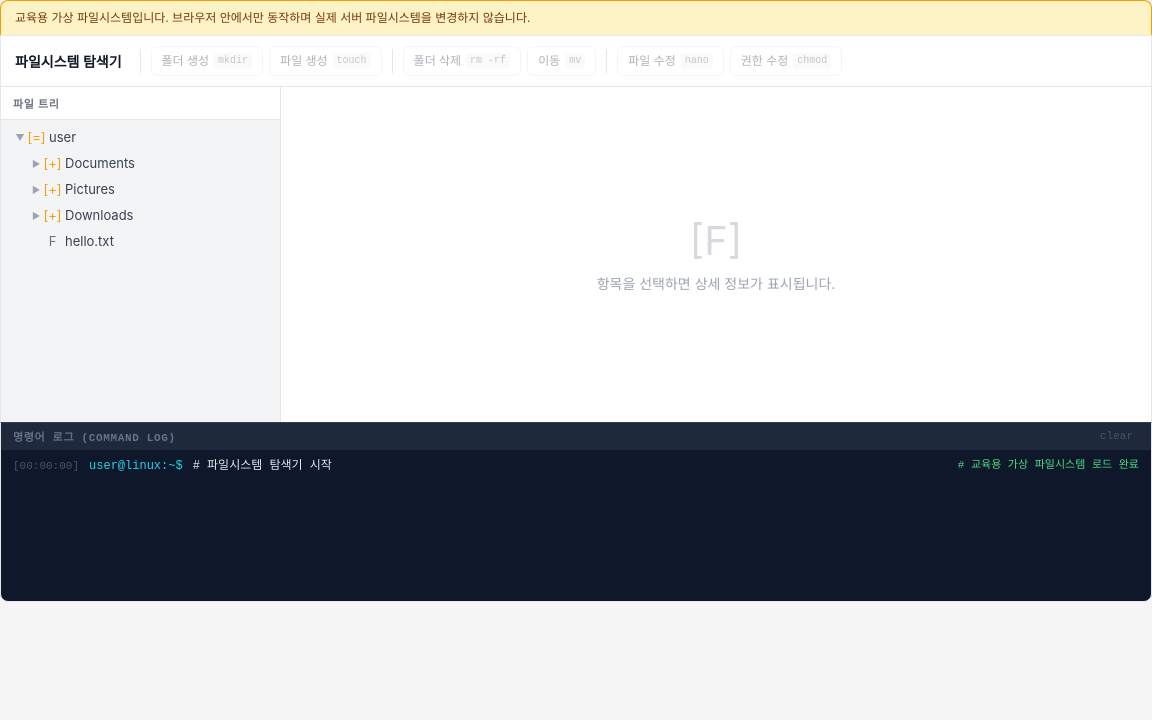
Scenario: FilesystemPage educational behaviour › changes permissions through the chmod modal and records the octal mode
The width and height of the screenshot is (1152, 720).
Click the text "hello.txt" at (90, 241), box [65,233,114,249]
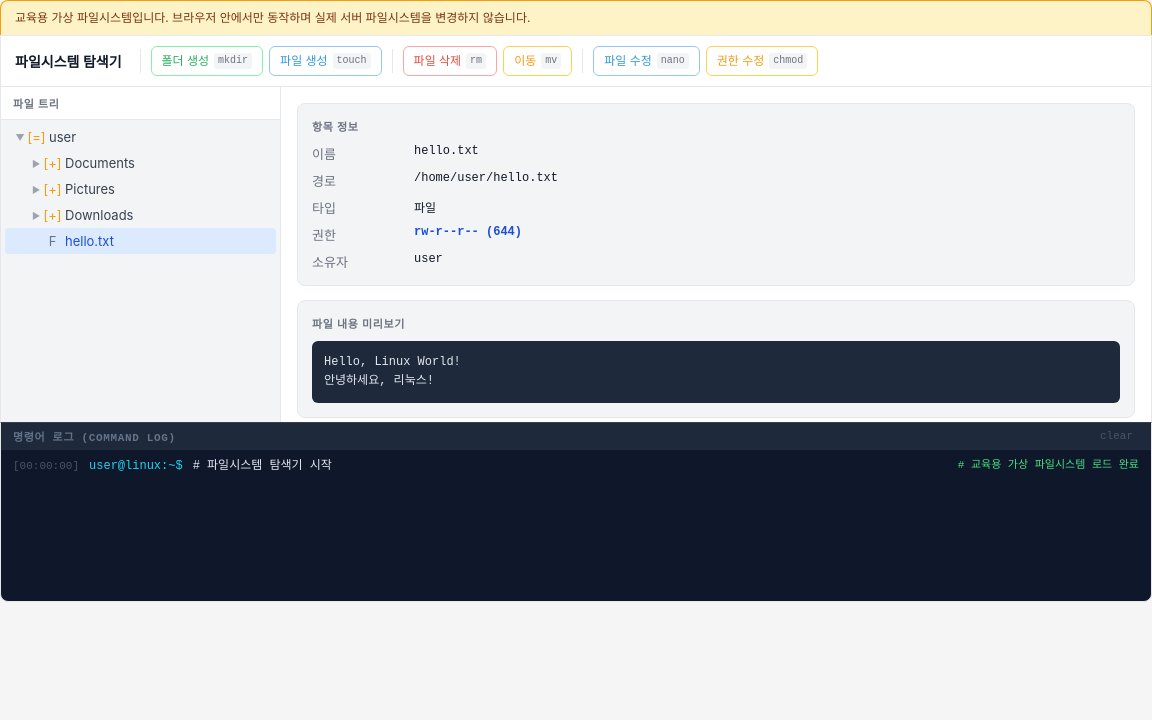
Click the button "권한 수정 chmod" at (762, 61), box [706,46,818,76]
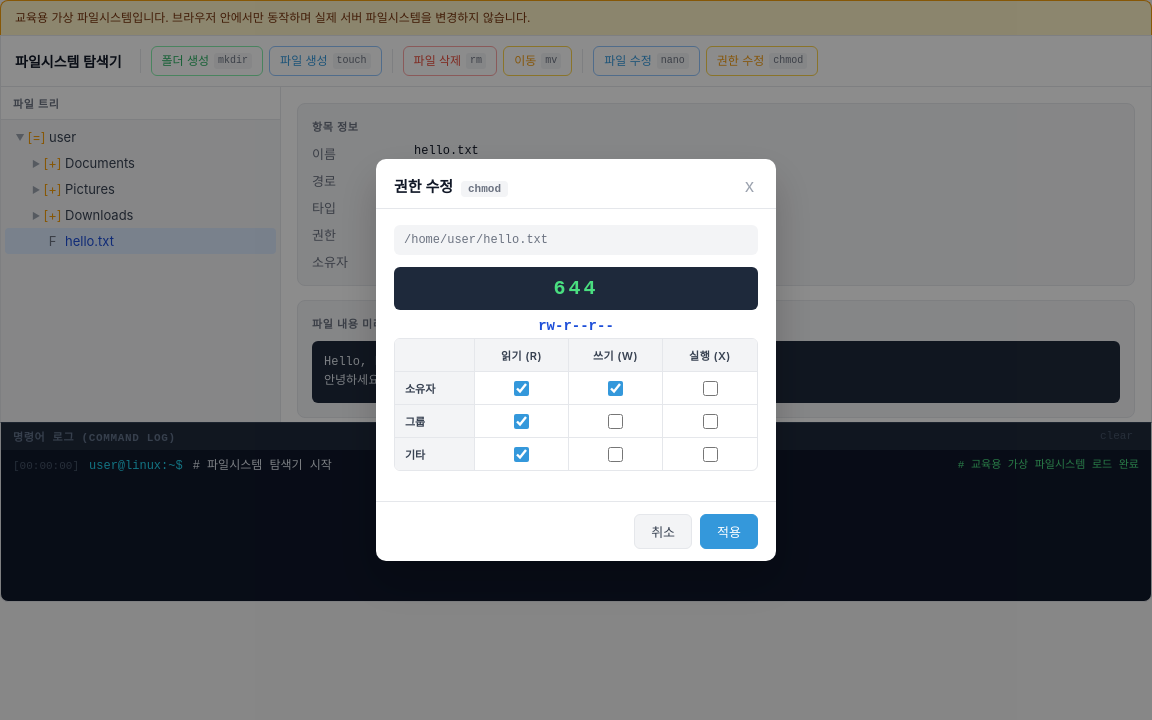
Click the checkbox named "소유자 실행 (x)" at (710, 388), box [702,380,718,396]
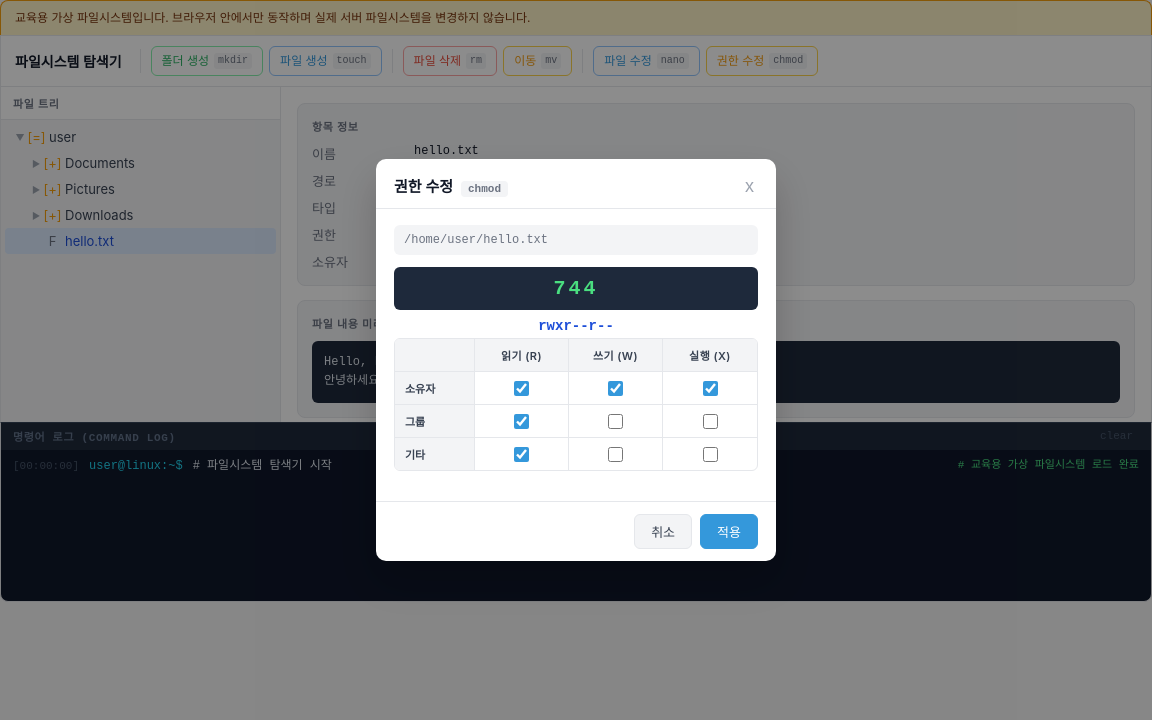
Click the button "적용" at (729, 532), box [700,514,758,549]
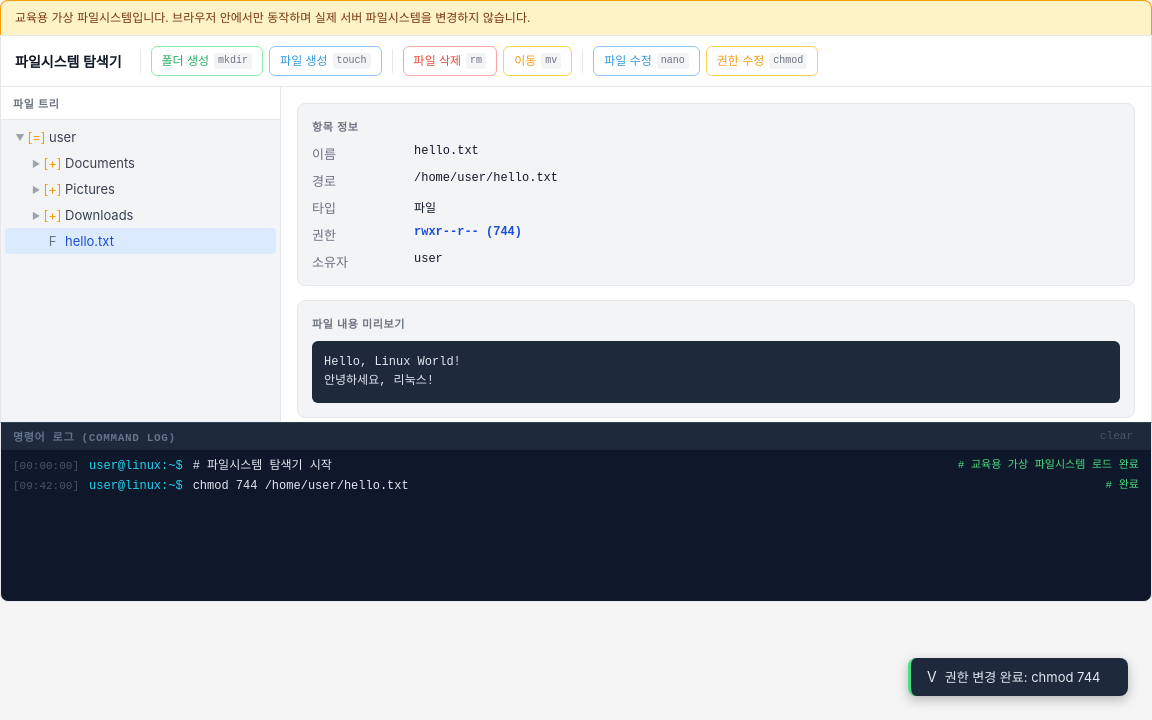
Check: the text "chmod 744 /home/user/hello.txt" is shown, box [193,479,409,493]
Check: the text "rwxr--r-- (744)" is shown, box [414,225,522,239]
